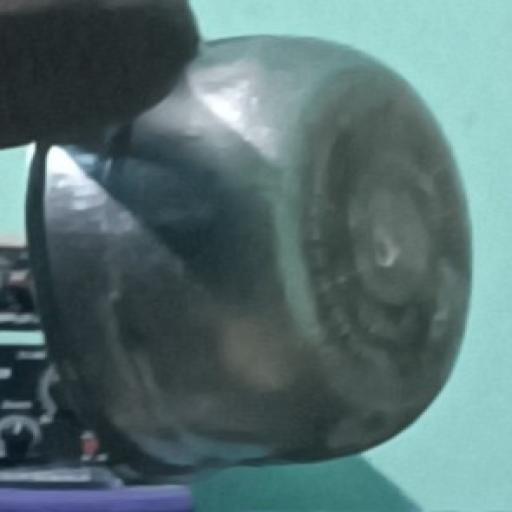vessel: (36, 39, 470, 476)
